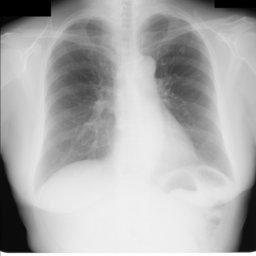left lobe: (141, 15, 228, 172)
right lobe: (45, 19, 115, 170)
